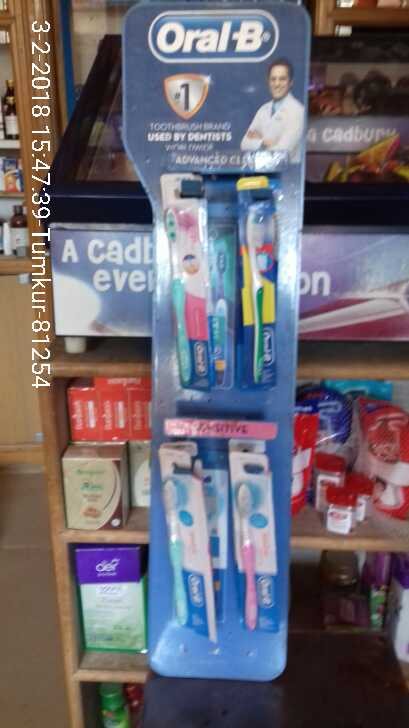oralb: (149, 455, 209, 649), (227, 446, 286, 632), (159, 199, 218, 384), (245, 188, 279, 390)
